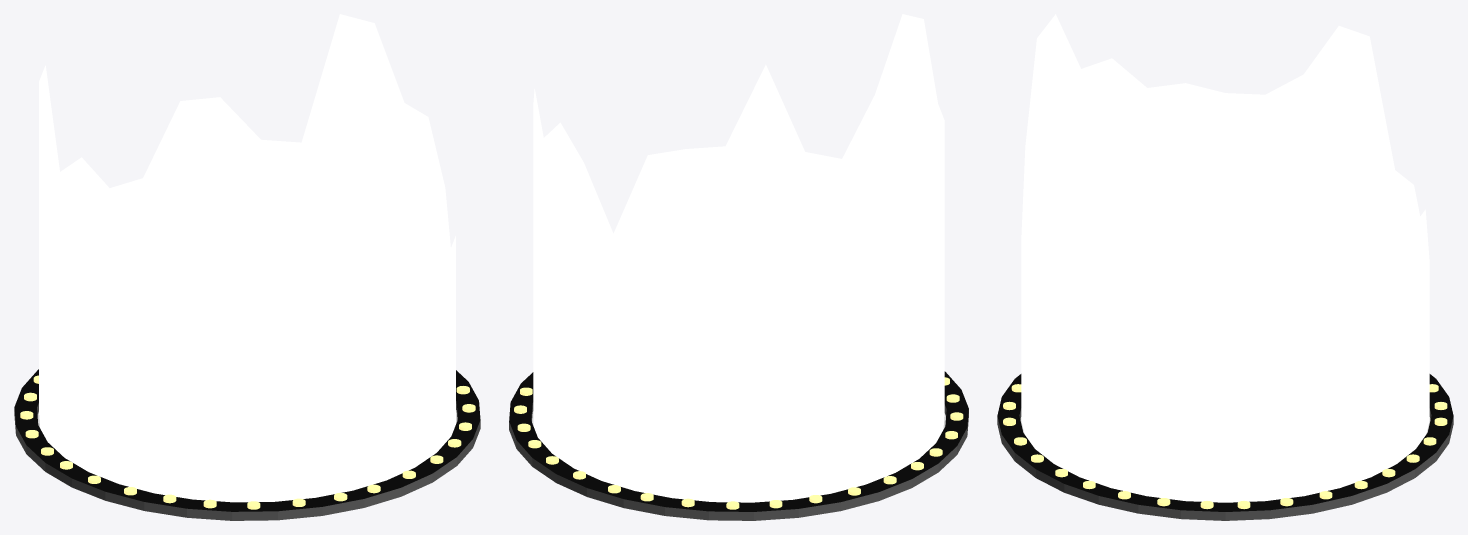
File: Light Effect Red.fbx
3 views of the same model, side by side, from view 1: azimuth 30°, elevation 25°; view 2: azimuth 150°, elevation 25°; view 3: azimuth 270°, elevation 25° (orthographic). The views are drawn at different scales.
Parts seen in each view (by area): view 1: Circle.034, Circle; view 2: Circle.034, Circle; view 3: Circle.034, Circle.
Boxes of the visible parts, x1,y1,x2,y2 form: Circle.034: (39,14,455,502); Circle: (14,369,480,520); Circle.034: (533,14,944,502); Circle: (509,371,968,520); Circle.034: (1021,14,1429,502); Circle: (997,374,1453,520).
Bounding box in the file's own units: 250 × 219 × 250.
